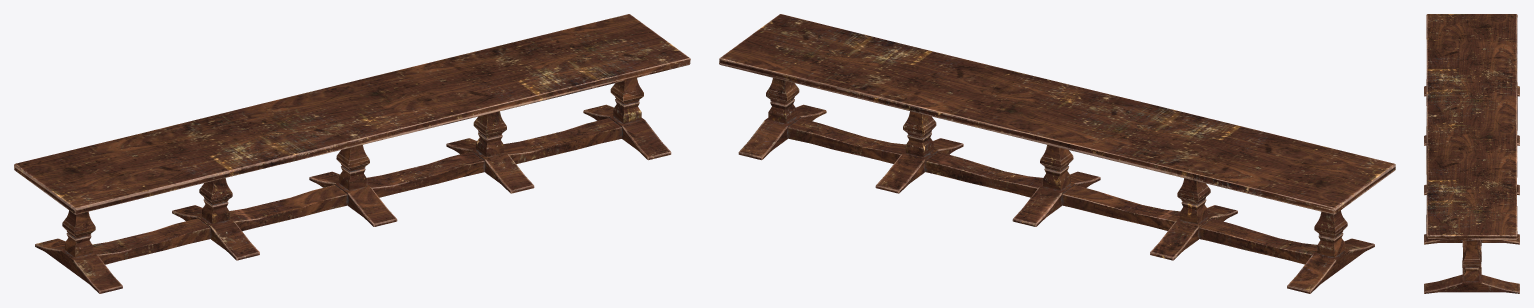
File: banquet_table.glb
3 renders of one model, left to right at view 1: azimuth 30°, elevation 25°; view 2: azimuth 150°, elevation 25°; view 3: azimuth 270°, elevation 25°, orthographic. The views are drawn at different scales.
Visible parts, largest first — view 1: table; view 2: table; view 3: table.
Part boxes in pixels (x1,y1,x2,y2): table: [14, 14, 690, 293]; table: [719, 14, 1395, 293]; table: [1424, 14, 1519, 293].
Size of the model in its own units: 5.24 by 0.7301 by 0.9562.
1 material, 1 textured.
